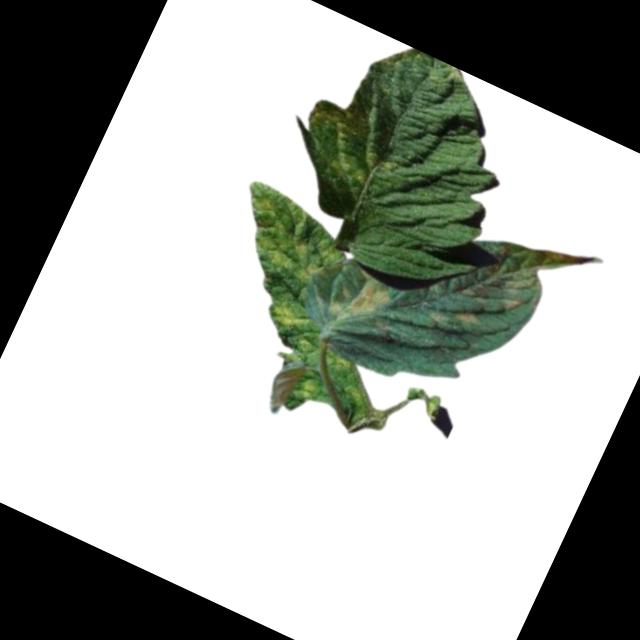Leaf_Mold: (415, 208, 576, 367), (284, 76, 404, 199), (220, 176, 347, 292), (324, 262, 400, 337), (266, 298, 310, 335)
